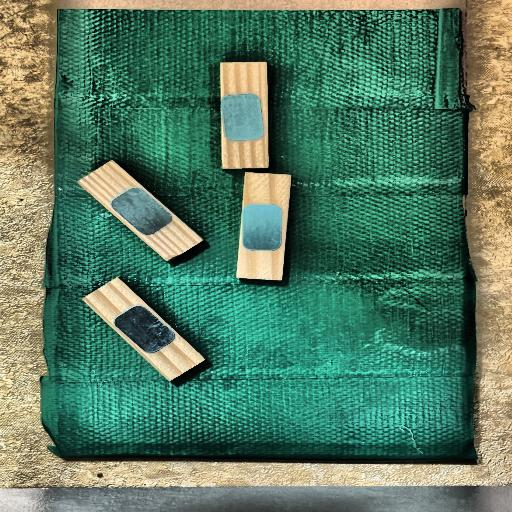objects: (77, 153, 204, 271), (82, 269, 205, 389), (236, 171, 292, 281), (220, 62, 270, 168)
